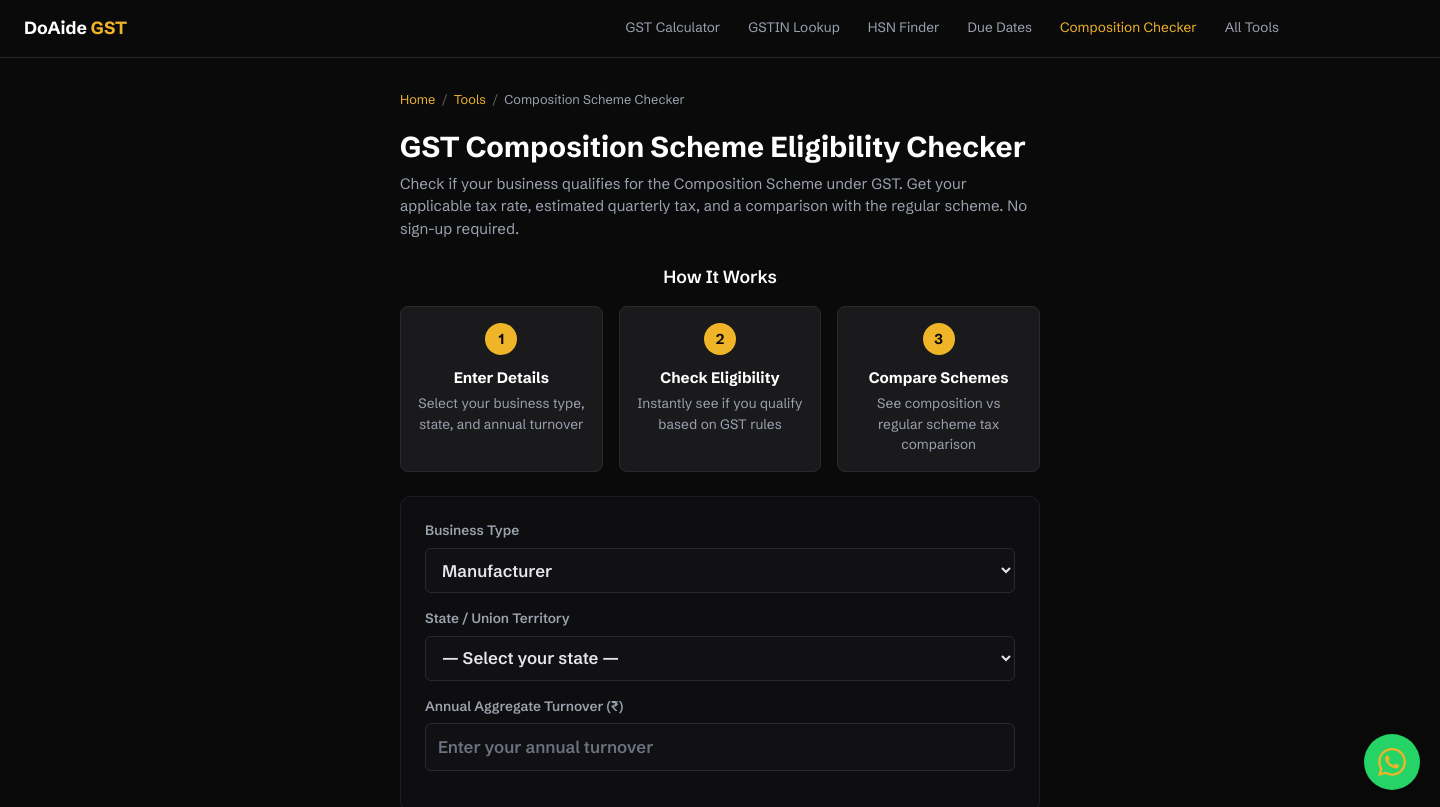
it: CompositionSchemeCheckerPage › shows special state notice for NE states
Select "Mizoram" in the dropdown labelled "State / Union Territory" at (720, 658), box [425,636,1015,681]
(page scrolled)
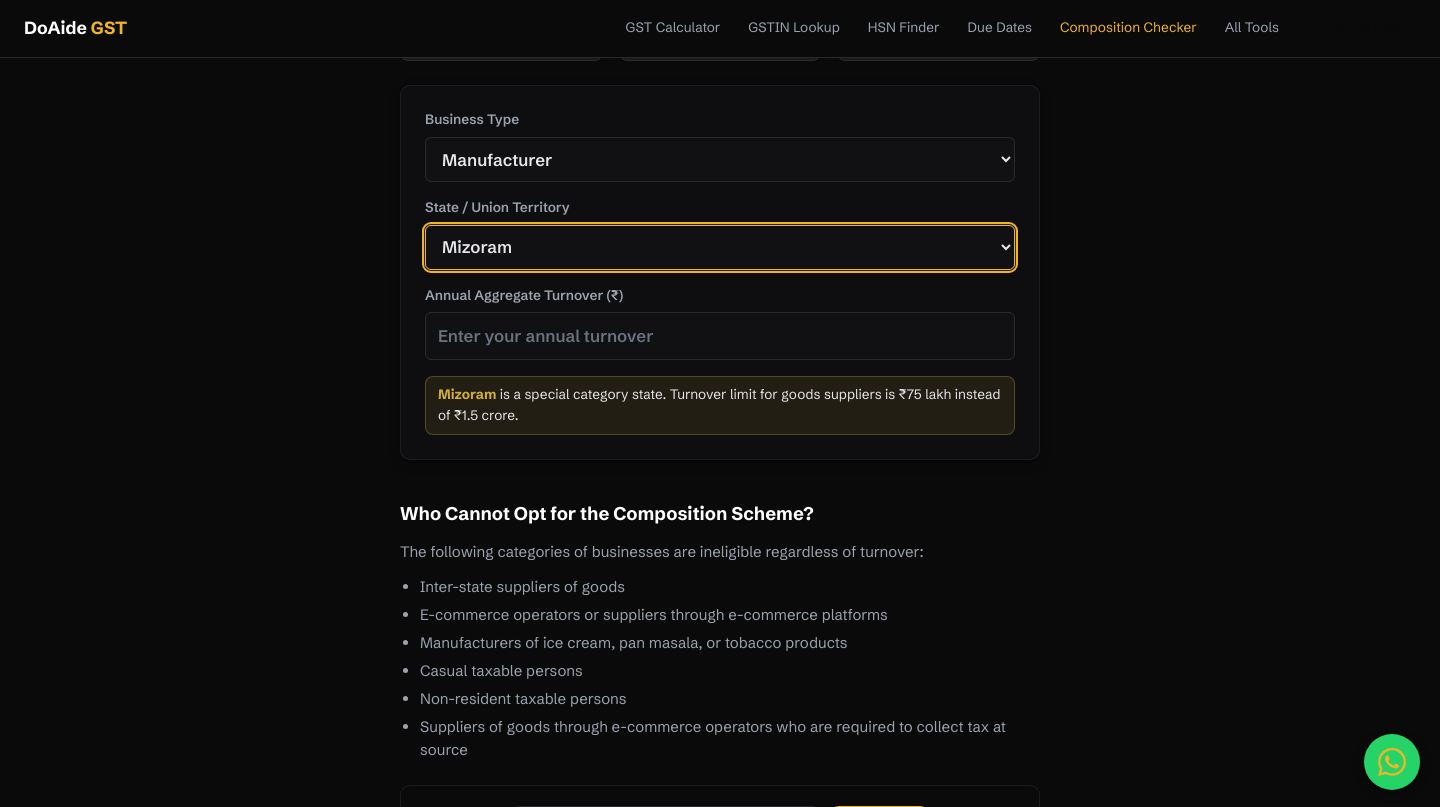
Result: the text "₹75 lakh instead of ₹1.5 crore" is shown at [438,386,1000,424]
